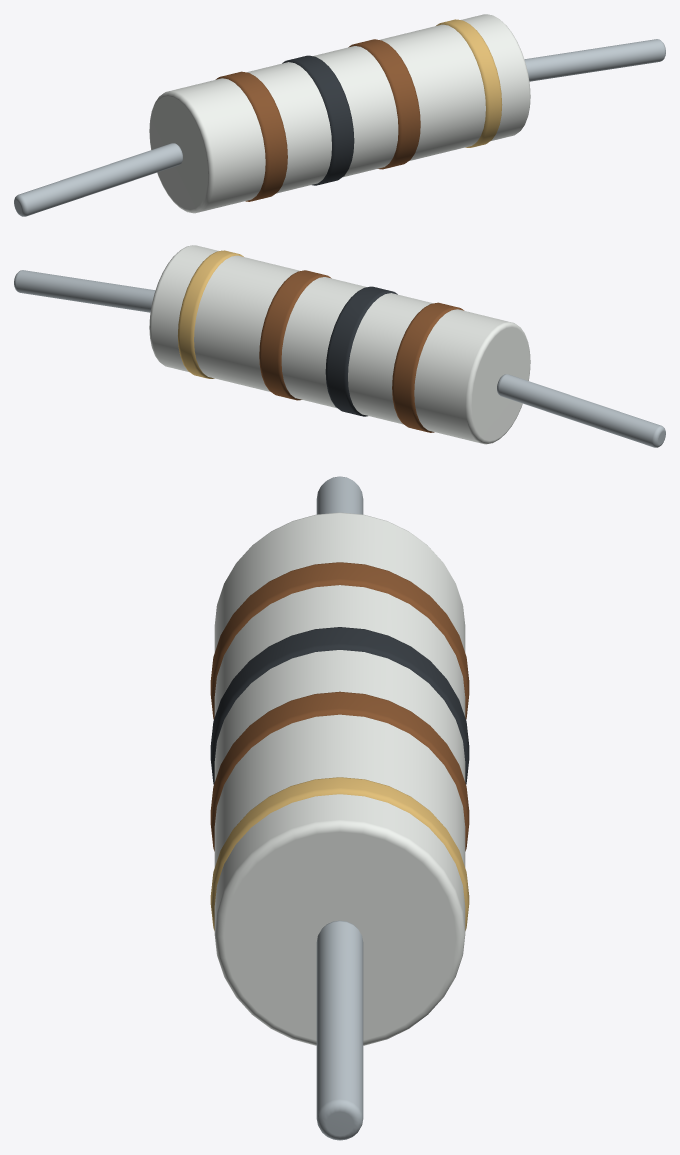
File: ENG_Resistor100.fbx
3 views of the same model, one above another, from view 1: azimuth 30°, elevation 25°; view 2: azimuth 150°, elevation 25°; view 3: azimuth 270°, elevation 25° (orthographic). The views are drawn at different scales.
Visible parts, largest first — view 1: Body, LeadA, LeadB, Band2, Band0, Band1, Tolerance; view 2: Body, LeadA, LeadB, Band2, Band0, Band1, Tolerance; view 3: Body, LeadB, Band2, Band0, Band1, Tolerance, LeadA.
Boxes of the visible parts, x1,y1,x2,y2 form: Body: [149, 14, 530, 213]; LeadA: [14, 143, 182, 216]; LeadB: [524, 39, 665, 81]; Band2: [348, 39, 420, 169]; Band0: [215, 71, 287, 201]; Band1: [282, 55, 354, 185]; Tolerance: [436, 19, 502, 147]; Body: [149, 245, 530, 444]; LeadA: [497, 374, 665, 447]; LeadB: [14, 270, 155, 312]; Band2: [259, 270, 331, 400]; Band0: [392, 302, 464, 432]; Band1: [325, 286, 397, 416]; Tolerance: [177, 250, 243, 378]; Body: [214, 512, 465, 1045]; LeadB: [316, 920, 363, 1140]; Band2: [210, 691, 469, 851]; Band0: [210, 562, 469, 719]; Band1: [210, 627, 469, 784]; Tolerance: [210, 777, 469, 930]; LeadA: [316, 476, 363, 514].
Size of the model in its own units: 32.05 by 5.56 by 5.56.
